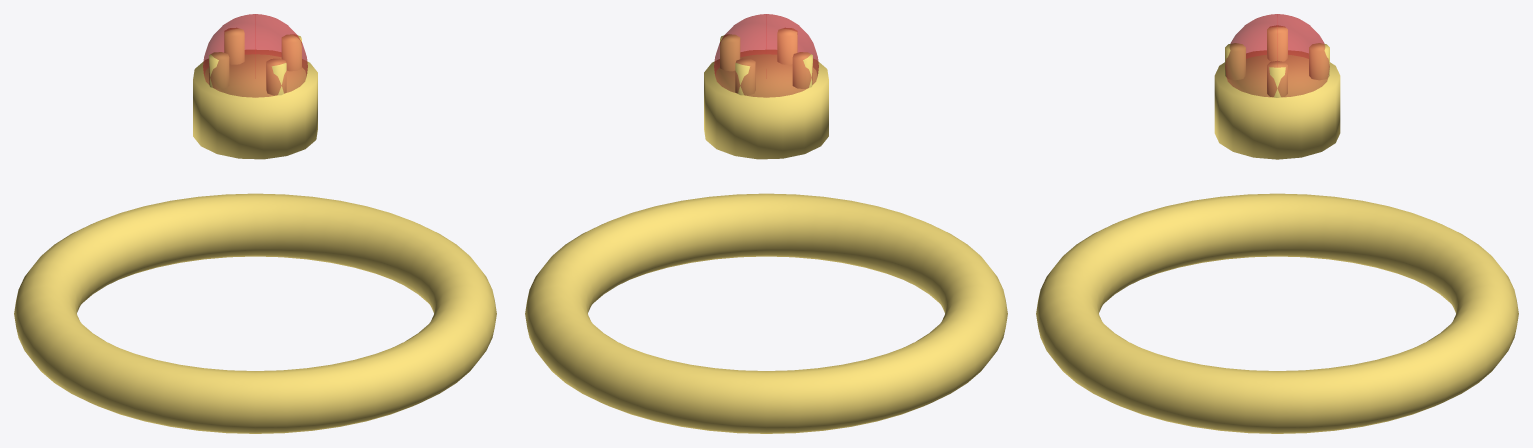
File: ring.glb
3 renders of one model, left to right at view 1: azimuth 30°, elevation 25°; view 2: azimuth 150°, elevation 25°; view 3: azimuth 270°, elevation 25°, orthographic.
Parts seen in each view (by area): view 1: ring; view 2: ring; view 3: ring.
Boxes of the visible parts, box(x1,y1,x2,y2) form: ring: box(14, 14, 496, 433); ring: box(525, 14, 1007, 433); ring: box(1036, 14, 1518, 433).
Bounding box in the file's own units: 0.023 × 0.017 × 0.023.
